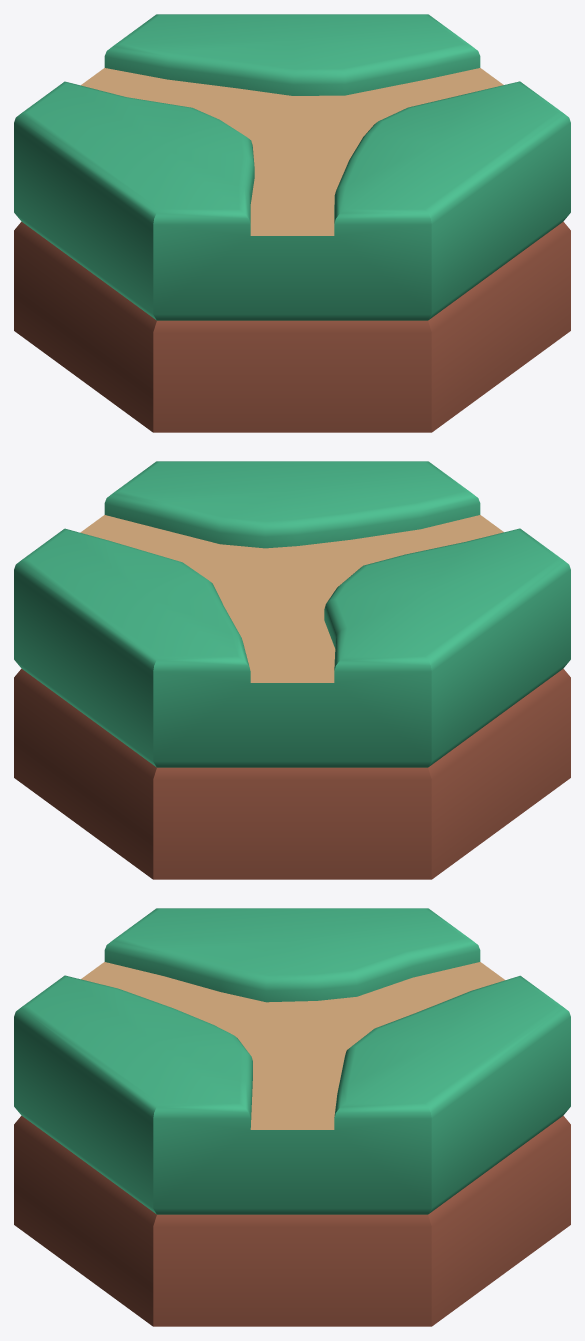
Rendered from hex_forest_roadG_detail.glb.
3 renders of one model, top to bottom at view 1: azimuth 30°, elevation 25°; view 2: azimuth 150°, elevation 25°; view 3: azimuth 270°, elevation 25°, orthographic.
Parts seen in each view (by area): view 1: hex_forest_roadG_detail; view 2: hex_forest_roadG_detail; view 3: hex_forest_roadG_detail.
Boxes of the visible parts, box(x1,y1,x2,y2) form: hex_forest_roadG_detail: box(14, 14, 570, 432); hex_forest_roadG_detail: box(14, 461, 570, 879); hex_forest_roadG_detail: box(14, 908, 570, 1326).
Bounding box in the file's own units: 2 × 1 × 2.31.
